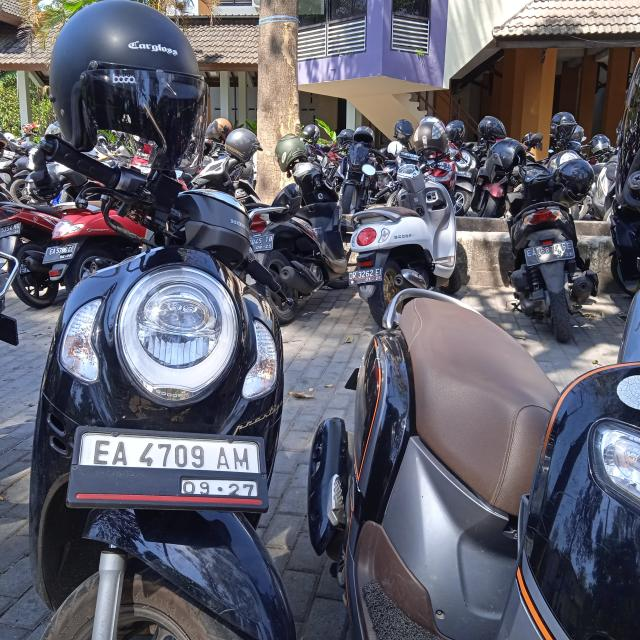plate: (74, 427, 269, 514), (523, 239, 576, 267), (348, 268, 382, 286)
